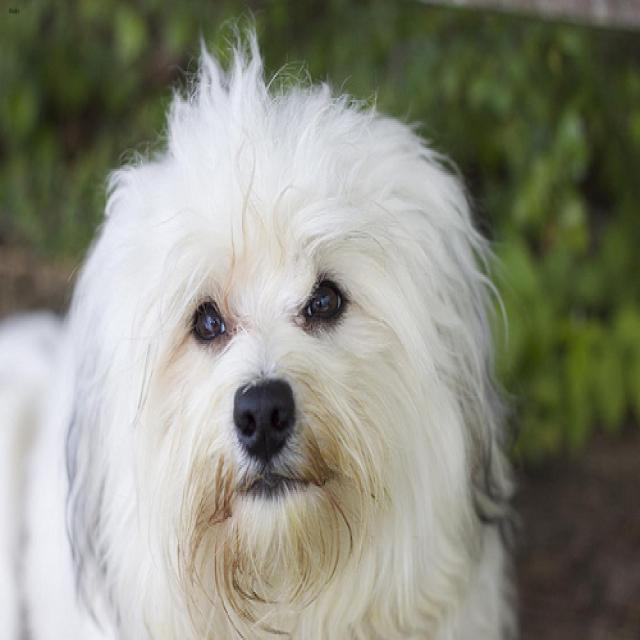dog-havanese: (1, 12, 535, 636)
